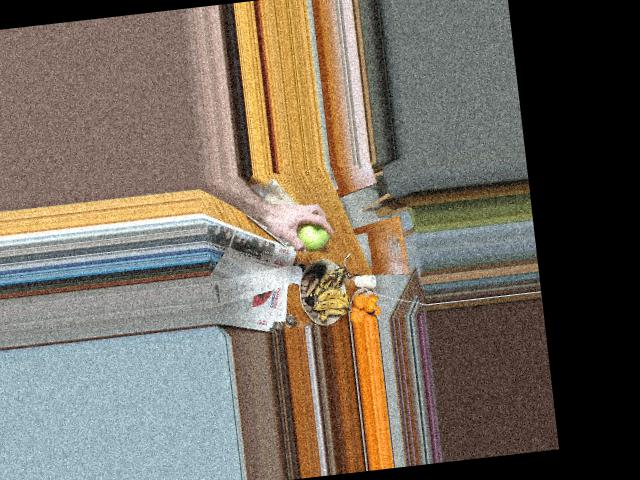apple: (293, 215, 334, 253)
